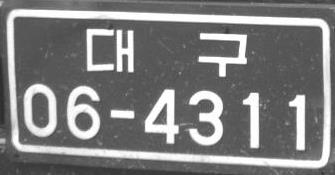0: (22, 81, 58, 138)
1: (237, 91, 272, 149), (283, 93, 315, 150)
3: (187, 90, 224, 146)
4: (143, 87, 179, 145)
6: (66, 83, 101, 140)
대구_D: (85, 26, 248, 78)
